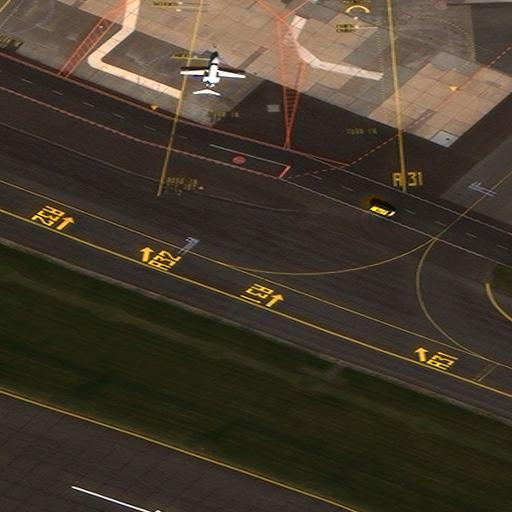Small Civil Transport: (181, 56, 246, 94)
